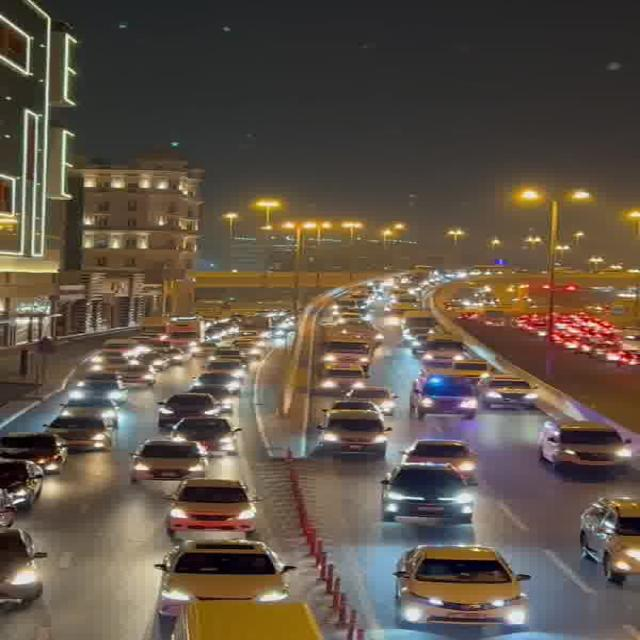ambulance: (405, 371, 481, 416)
